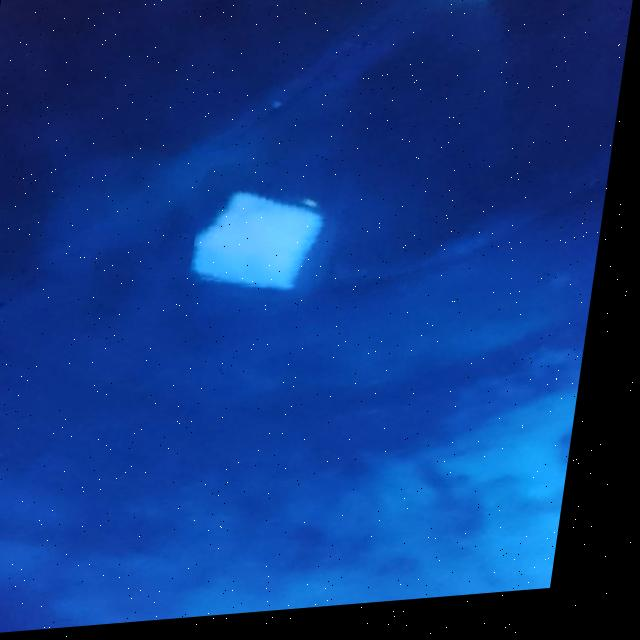thermocoal: (195, 161, 348, 296)
